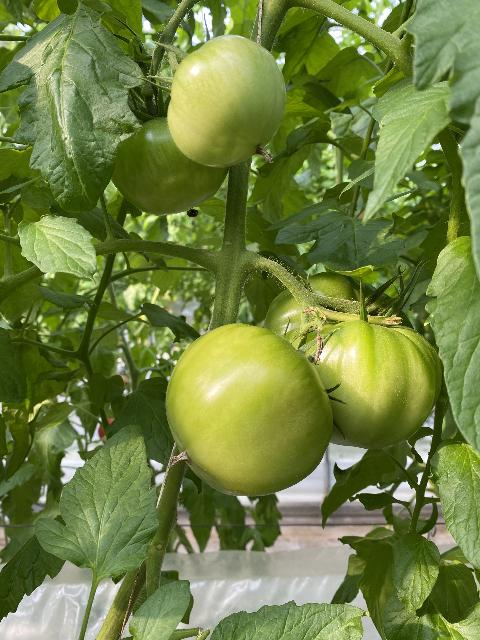b_green: (263, 271, 442, 449), (164, 322, 334, 497), (166, 34, 287, 168), (108, 116, 230, 215)
